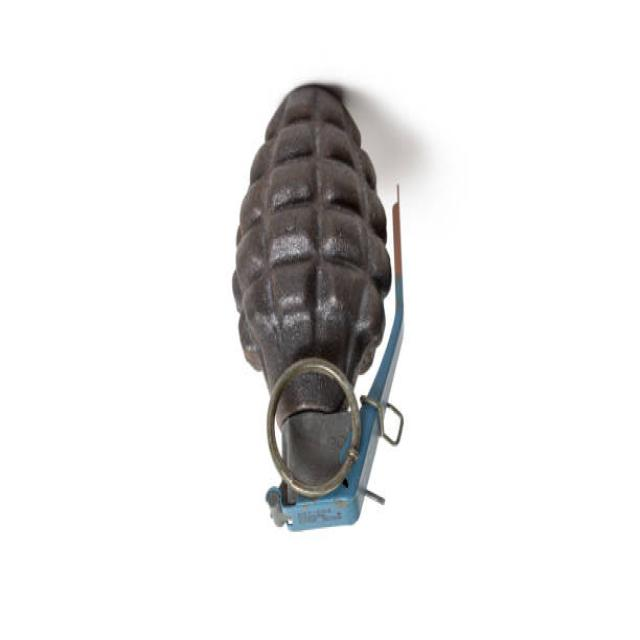grenade: (230, 72, 412, 540)
